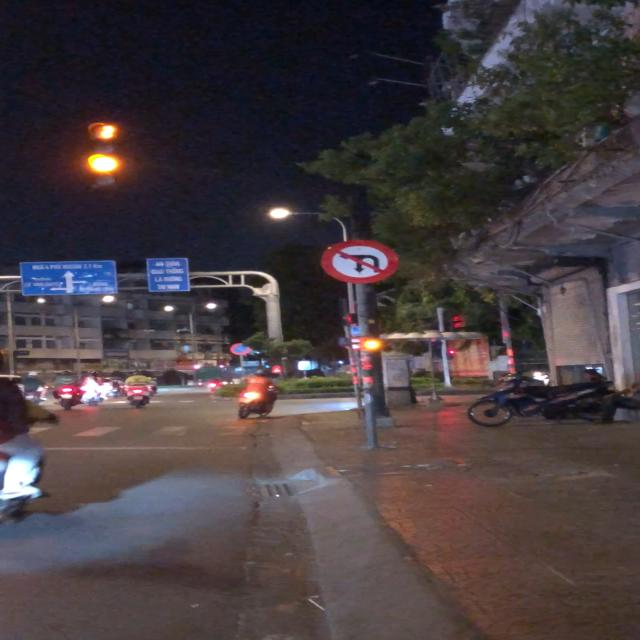Bien bao cam re trai va quay dau: (319, 239, 400, 286)
